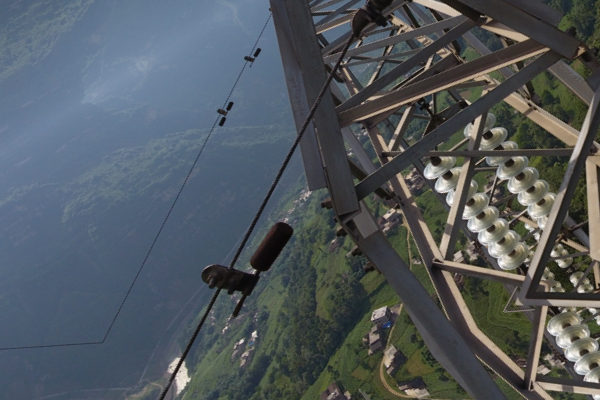damper: (214, 99, 234, 127)
damper_defect: (199, 219, 293, 319), (243, 47, 261, 69)
